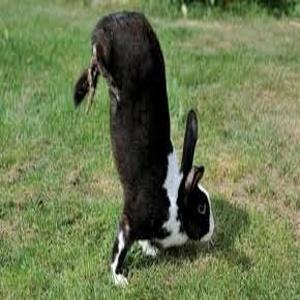rabbit: (74, 12, 212, 284)
